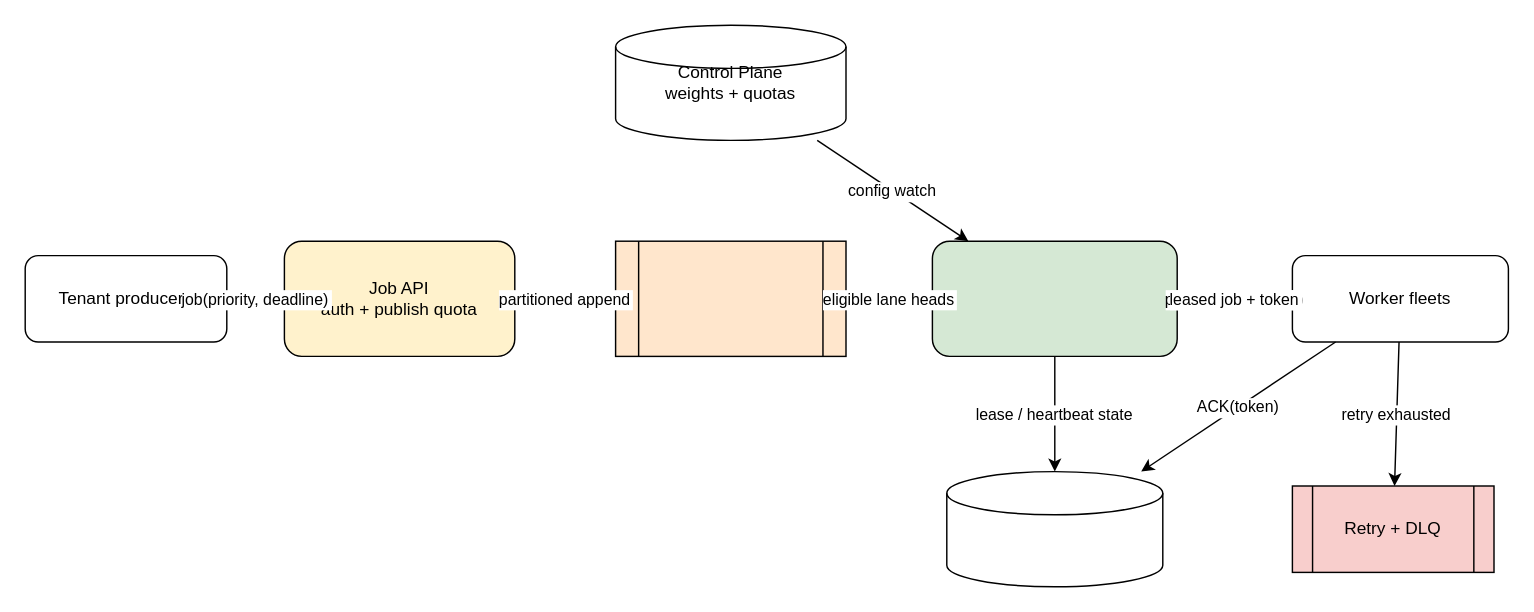
The diagram is 1534 pixels wide and 612 high, and some of its shapes have lost their labels. The shapes that lost their labels are listed below. From the top down, each one's centre as x and y in pixels, then its label:
(x=730, y=298): Priority Lanes durable RF=3
(x=1054, y=298): Fair Scheduler DRR + aging + EDF
(x=1054, y=528): Lease State fencing tokens
